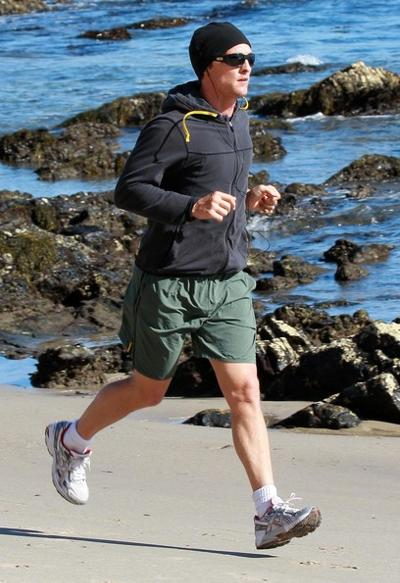person: (45, 19, 324, 553)
